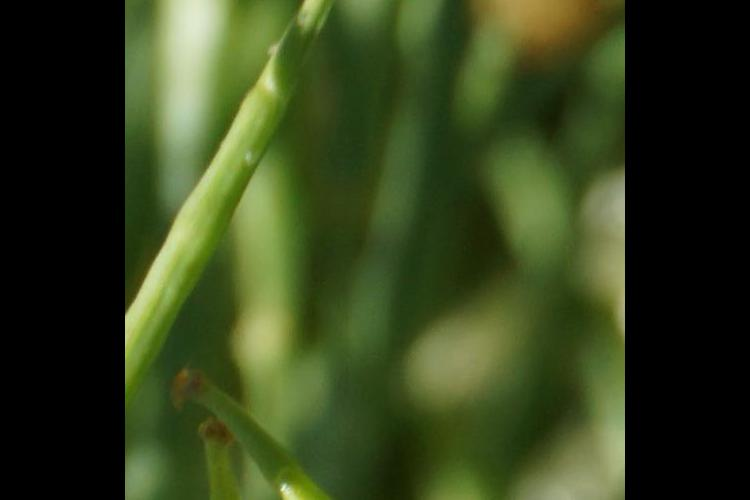pod: (186, 1, 366, 218), (177, 363, 406, 500), (177, 442, 265, 500)
